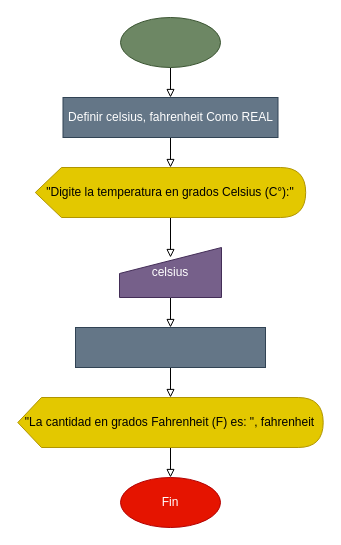
Image size: 341x545. Some labels were removed from this diagram. Here are the shapes that lost their labels. From the top down, the centre of each, then its label:
the point at 170,42: Inicio
the point at 170,347: fahrenheit <- (9 / 5) * celsius + 32
